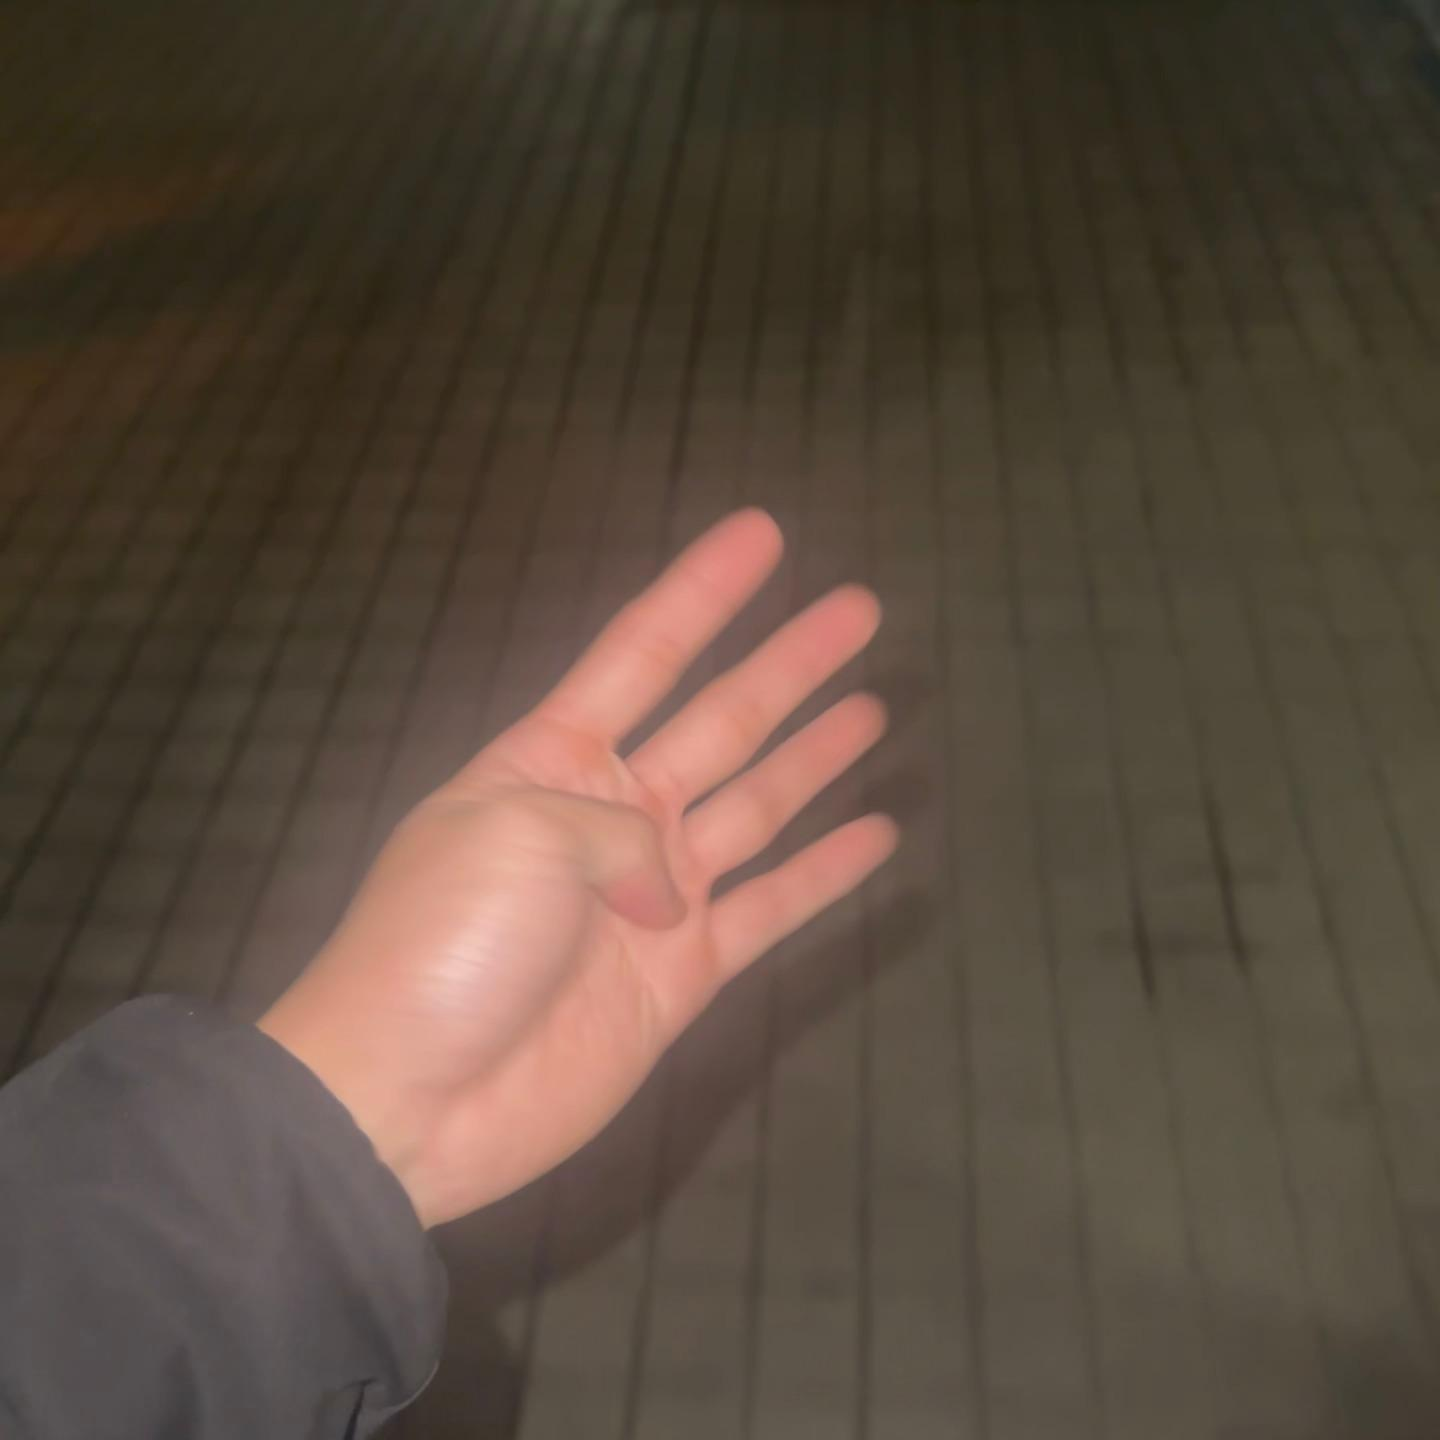without_gloves: (187, 359, 982, 1244)
